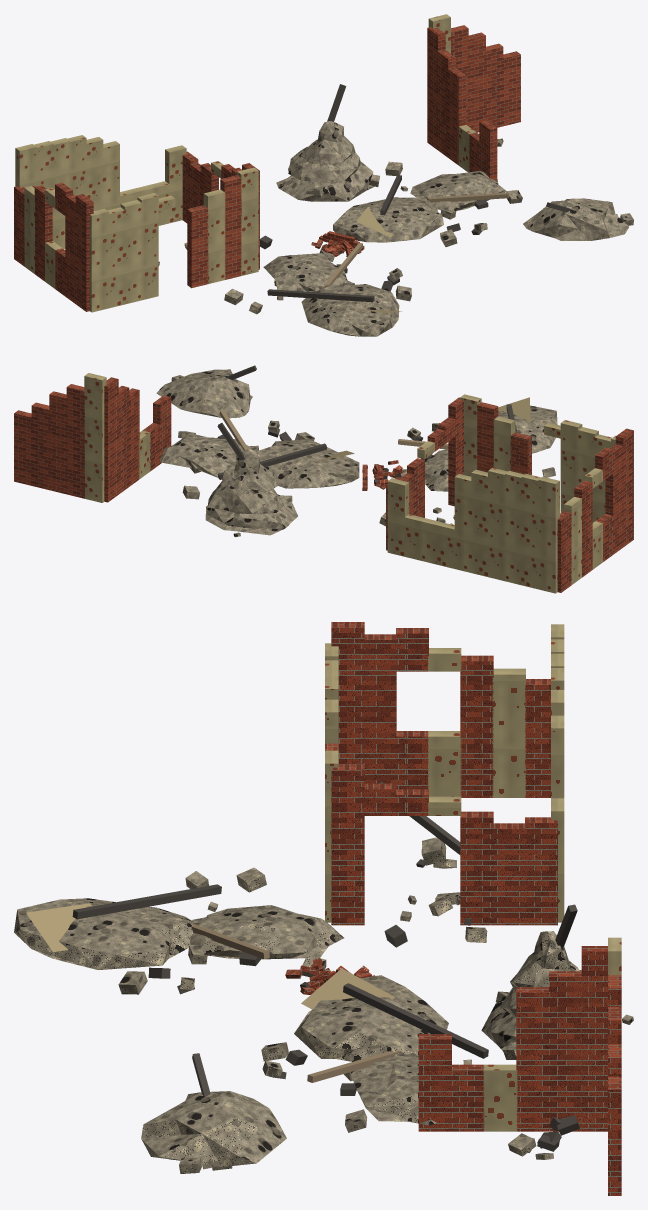
Rendered from ruinset_collapsed_block.glb.
3 renders of one model, top to bottom at view 1: azimuth 30°, elevation 25°; view 2: azimuth 150°, elevation 25°; view 3: azimuth 270°, elevation 25°, orthographic. The views are drawn at different scales.
Parts seen in each view (by area): view 1: ruinset_collapsed_block-col; view 2: ruinset_collapsed_block-col; view 3: ruinset_collapsed_block-col.
Part boxes in pixels (x1,y1,x2,y2): ruinset_collapsed_block-col: [14, 14, 633, 336]; ruinset_collapsed_block-col: [14, 365, 633, 593]; ruinset_collapsed_block-col: [14, 622, 633, 1195].
Bounding box in the file's own units: 12.58 × 2.83 × 8.24.
6 materials, 3 textured.
